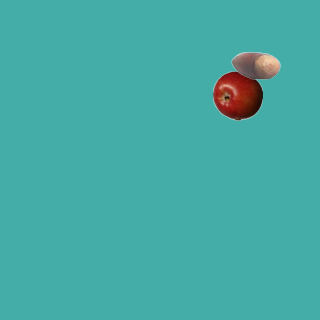Apple Braeburn: (212, 70, 262, 120)
Hazelnut: (230, 40, 280, 90)
